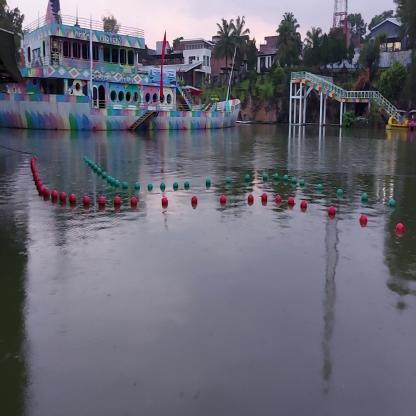green_buoy: (362, 191, 370, 206), (389, 196, 397, 211), (316, 182, 324, 195), (121, 181, 130, 191), (244, 172, 252, 183), (300, 176, 306, 188), (273, 170, 280, 180), (172, 182, 179, 192), (160, 182, 166, 193), (337, 188, 344, 197), (205, 178, 211, 188), (135, 180, 140, 192), (184, 181, 190, 191), (107, 174, 112, 185), (225, 177, 230, 188), (292, 176, 297, 186), (114, 181, 121, 188), (147, 184, 153, 192), (102, 170, 107, 179), (284, 176, 288, 185), (263, 174, 268, 181)
red_buoy: (396, 222, 405, 239), (130, 196, 140, 209), (361, 210, 368, 228), (328, 206, 338, 218), (261, 191, 268, 206), (99, 196, 107, 209), (43, 186, 50, 200), (220, 193, 227, 206), (191, 196, 198, 209), (84, 193, 90, 208), (301, 199, 307, 214), (114, 196, 122, 207), (247, 194, 254, 206), (288, 198, 295, 209), (60, 192, 66, 204), (70, 194, 76, 206), (276, 193, 281, 206), (162, 198, 167, 210), (52, 192, 58, 200), (40, 187, 44, 197)
